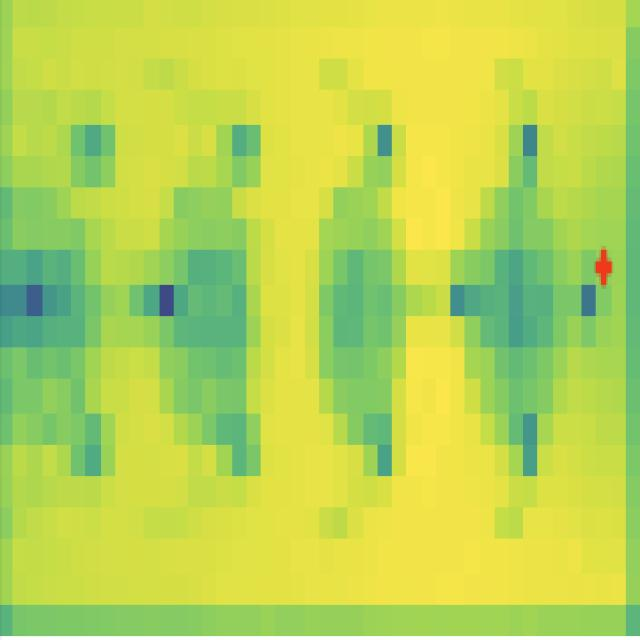Concrete: (29, 195, 117, 412)
Glass: (456, 188, 575, 432)
Metal: (160, 188, 262, 420)
Wood: (318, 176, 413, 448)
